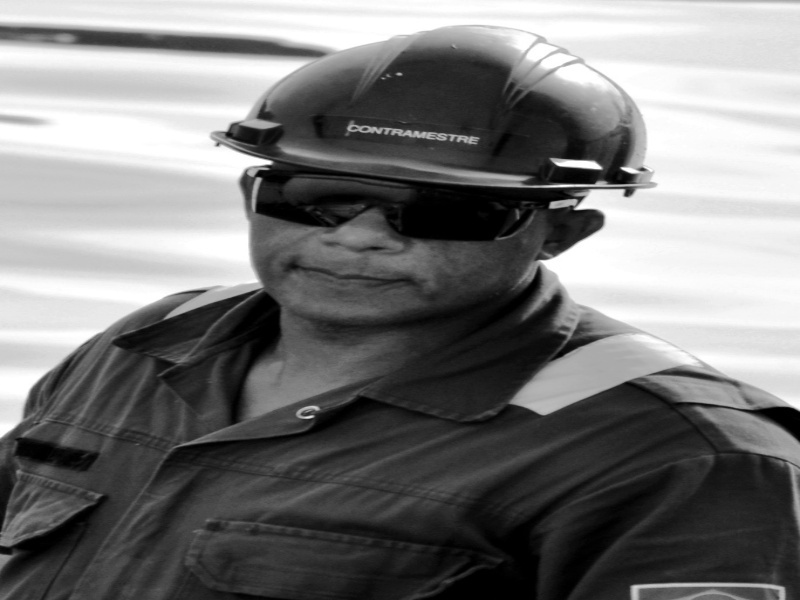baret: (211, 24, 659, 193)
